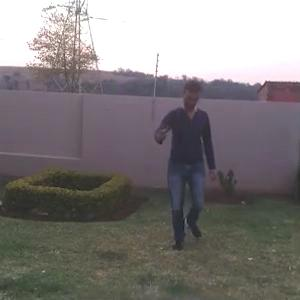takeoff-hand: (149, 120, 171, 151)
